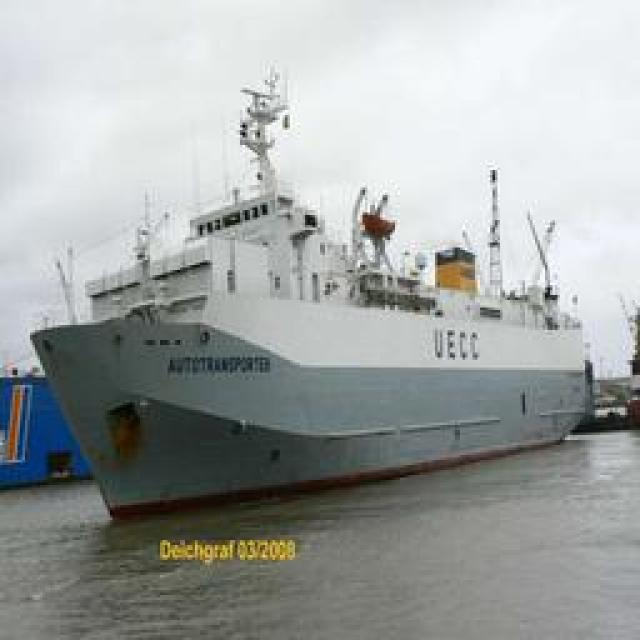CIV_Ship: (39, 168, 602, 518)
